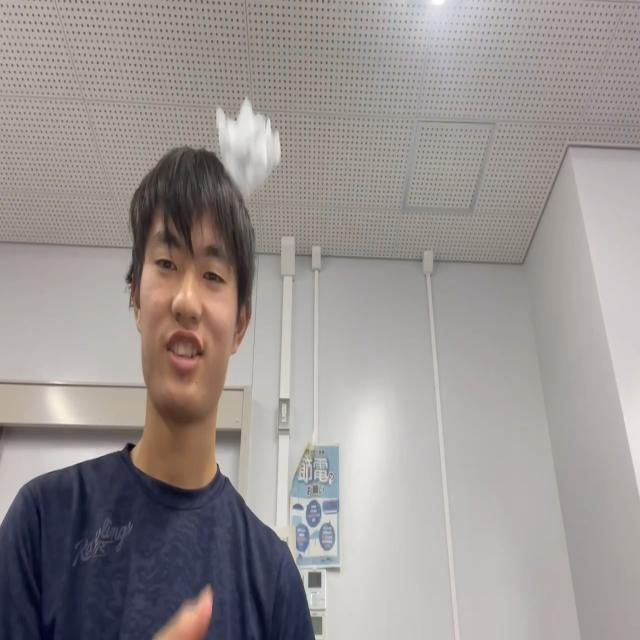paper: (215, 97, 281, 199)
